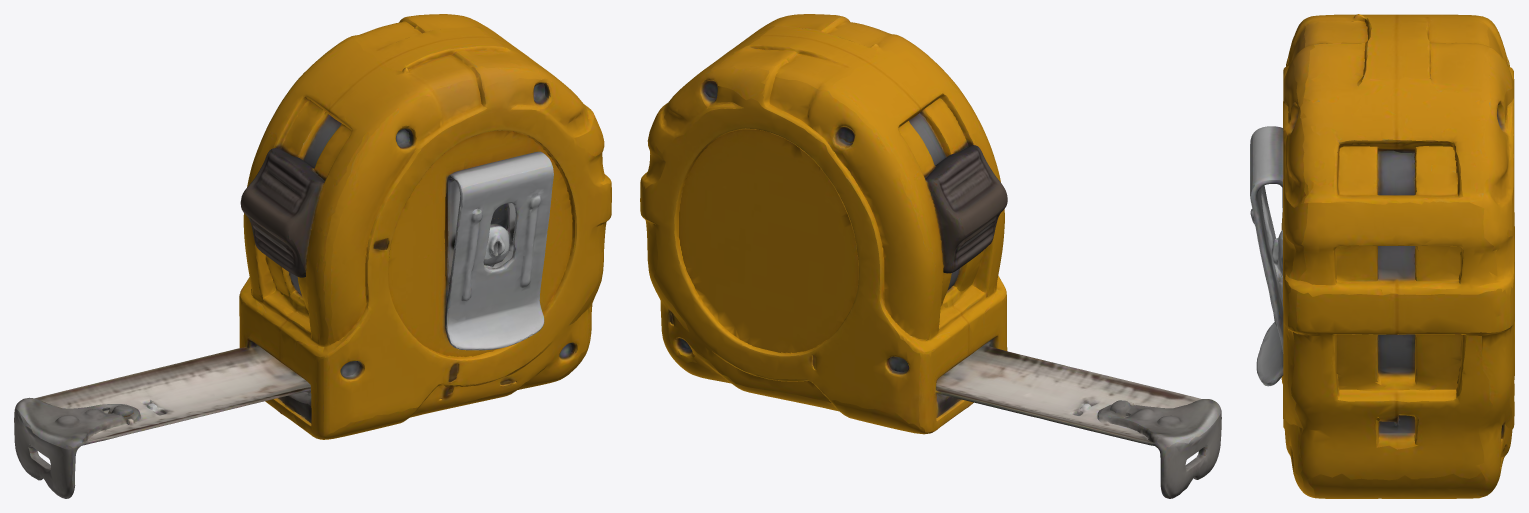
File: parts.glb
The picture shows the model from 3 angles, left to right: view 1: azimuth 30°, elevation 25°; view 2: azimuth 150°, elevation 25°; view 3: azimuth 270°, elevation 25°; orthographic projection. The views are drawn at different scales.
Size of the model in its own units: 0.13 by 0.0822 by 0.0457.
3 materials, 3 textured.
